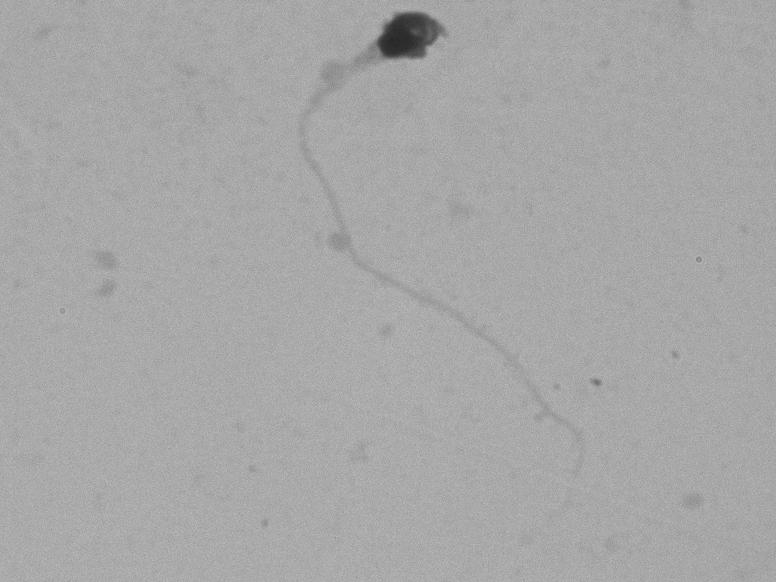Abnormal: (214, 5, 569, 499)
